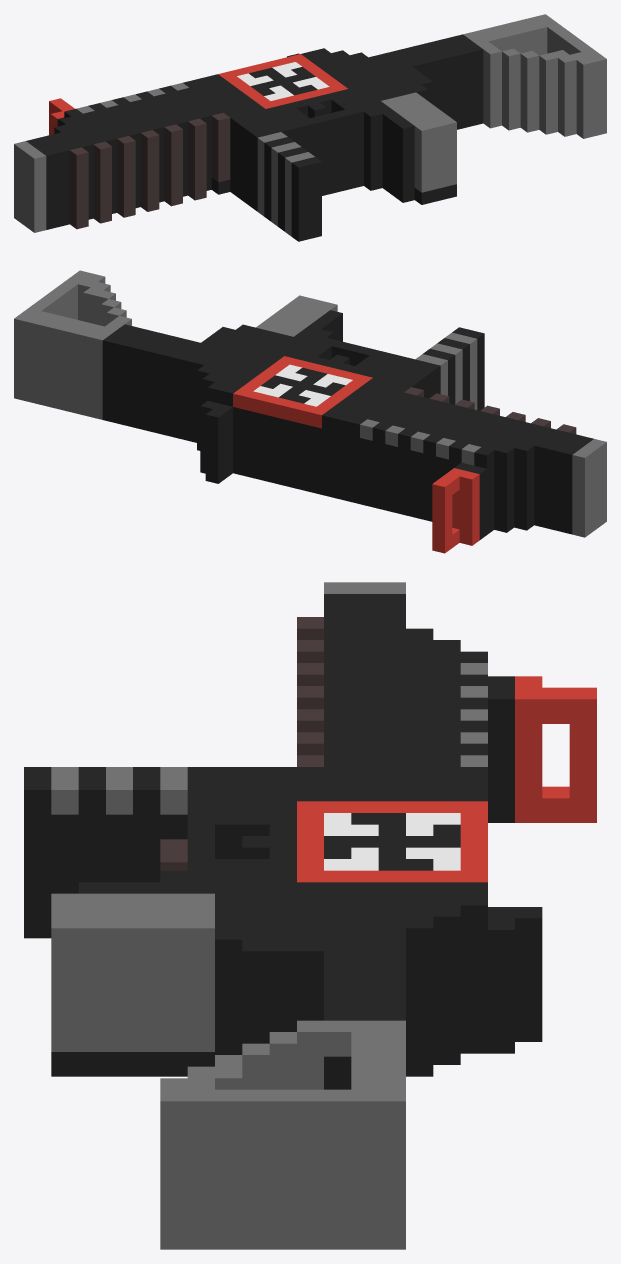
File: metralleta-1.obj
3 renders of one model, top to bottom at view 1: azimuth 30°, elevation 25°; view 2: azimuth 150°, elevation 25°; view 3: azimuth 270°, elevation 25°, orthographic. The views are drawn at different scales.
Bounding box in the file's own units: 4.5 × 0.6 × 2.1.
Materials: 1 (1 with a texture image).
